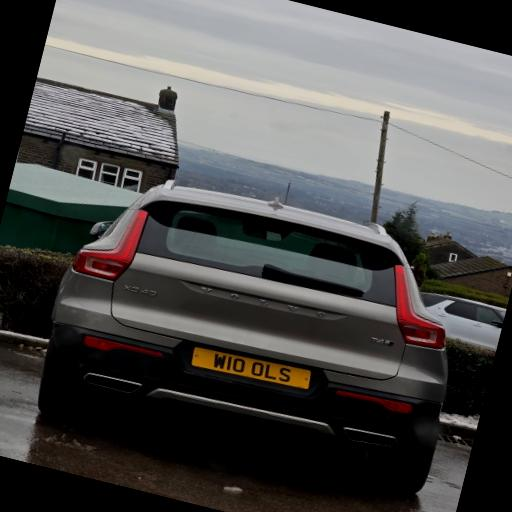numberplates: (192, 348, 310, 389)
